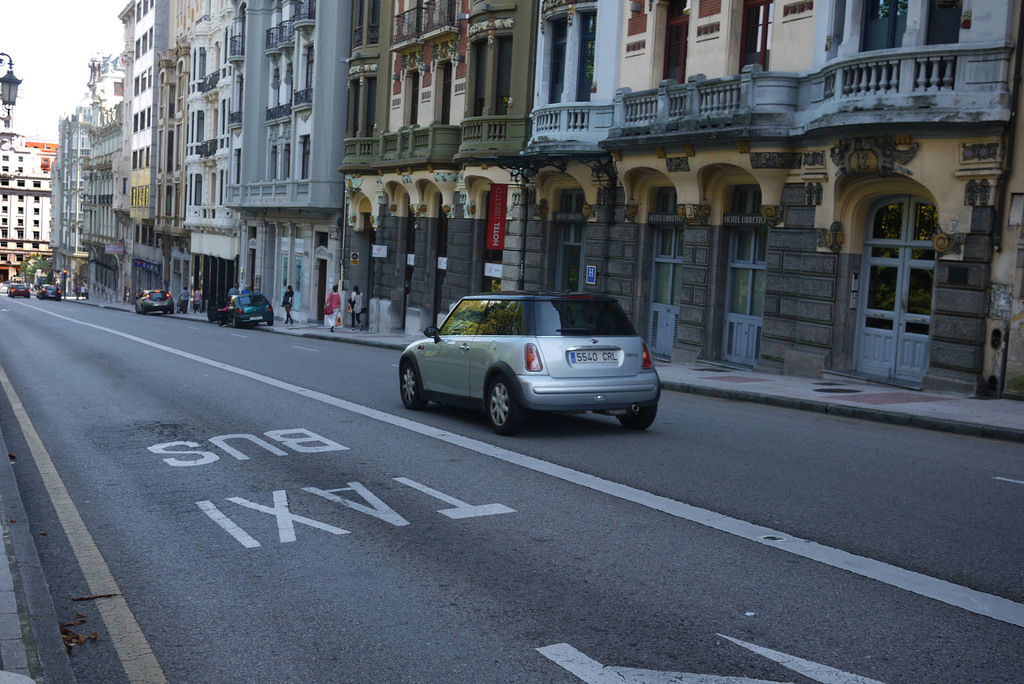cars: (396, 285, 657, 438), (217, 294, 272, 327), (135, 289, 174, 314), (40, 283, 63, 302), (6, 282, 31, 297)
